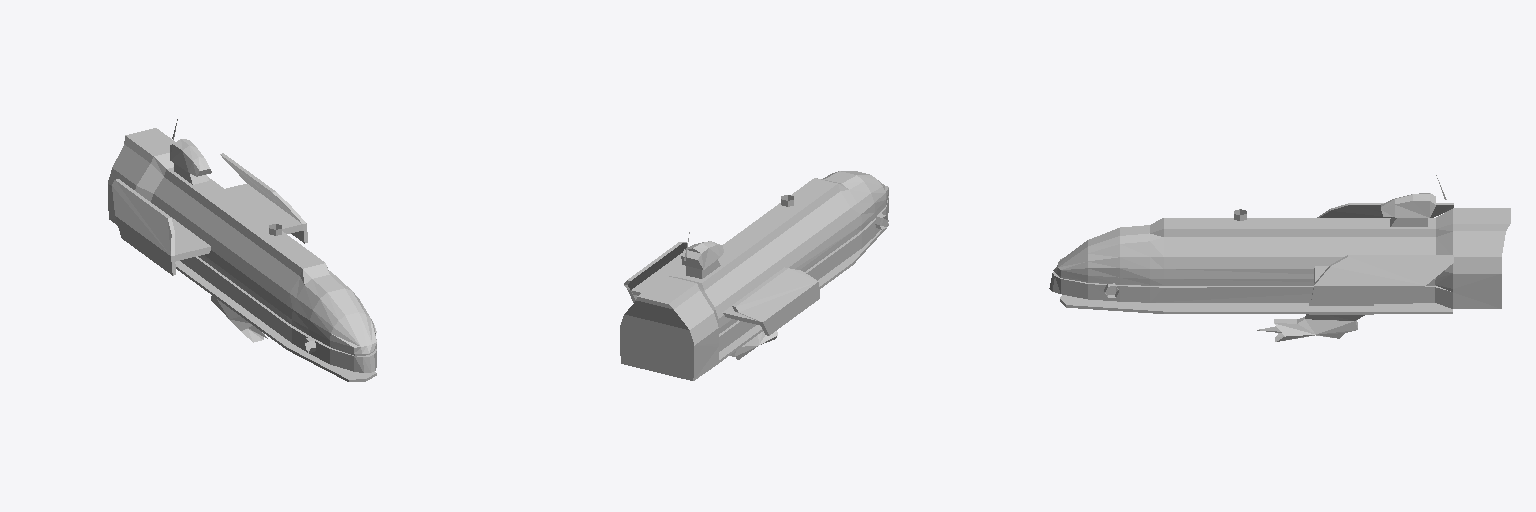
Rendered from cap03_static.obj.
3 views of the same model, side by side, from view 1: azimuth 30°, elevation 25°; view 2: azimuth 150°, elevation 25°; view 3: azimuth 270°, elevation 25° (orthographic).
Parts seen in each view (by area): view 1: frm-fuselg, frm-rarmour, frm-platfm2, frm-bplatfm, frm-larmour, frm-bmerge1, frm-gun_tip; view 2: frm-fuselg, frm-rarmour, frm-bplatfm, frm-platfm2, frm-bmerge1, frm-larmour; view 3: frm-fuselg, frm-larmour, frm-bplatfm, frm-gun_tip, frm-bmerge1, frm-rarmour.
Part boxes in pixels (x1,y1,x2,y2): frm-fuselg: (108, 128, 376, 372); frm-rarmour: (112, 179, 175, 275); frm-platfm2: (156, 184, 302, 261); frm-bplatfm: (175, 261, 376, 381); frm-larmour: (220, 153, 307, 243); frm-bmerge1: (170, 139, 211, 176); frm-gun_tip: (211, 296, 267, 342); frm-fuselg: (620, 171, 888, 380); frm-rarmour: (732, 267, 819, 335); frm-bplatfm: (710, 223, 888, 369); frm-platfm2: (631, 253, 777, 325); frm-bmerge1: (681, 241, 723, 269); frm-larmour: (624, 242, 686, 302); frm-fuselg: (1049, 208, 1510, 308); frm-larmour: (1311, 255, 1453, 303); frm-bplatfm: (1060, 295, 1452, 313); frm-gun_tip: (1257, 317, 1357, 341); frm-bmerge1: (1381, 193, 1435, 217); frm-rarmour: (1317, 203, 1453, 217).
Bounding box in the file's own units: 2.28 × 2.69 × 6.72.